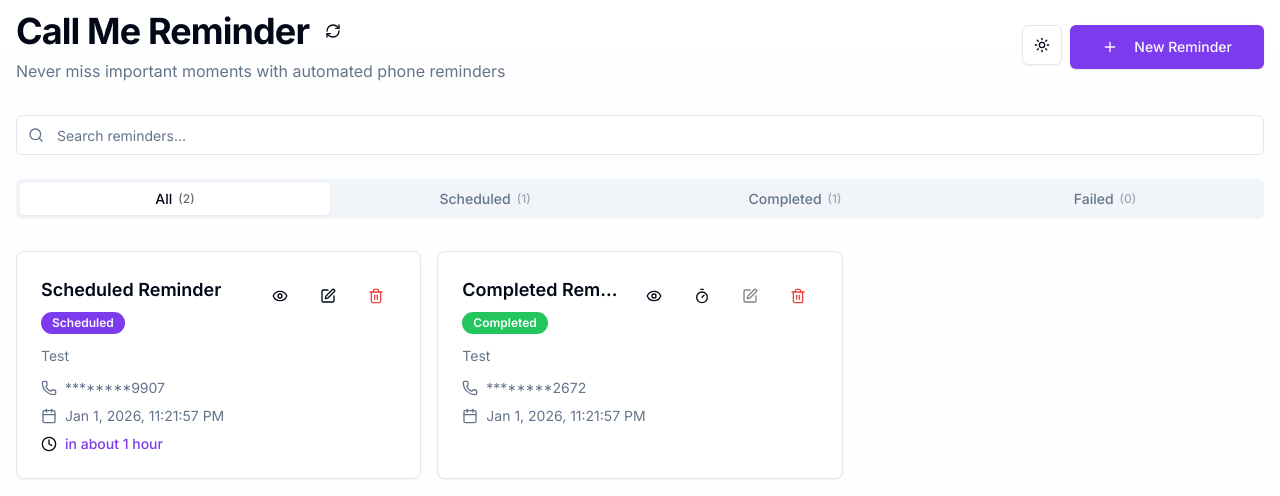
Call Me Reminder E2E Tests › should filter reminders by status
The width and height of the screenshot is (1280, 496).
Expected: the heading "Scheduled Reminder" is shown, [41,276,244,304]
Expected: the heading "Completed Reminder" is shown, [462,276,618,304]
Click the tab "Scheduled (1)": [485, 199] box [330,183,640,215]
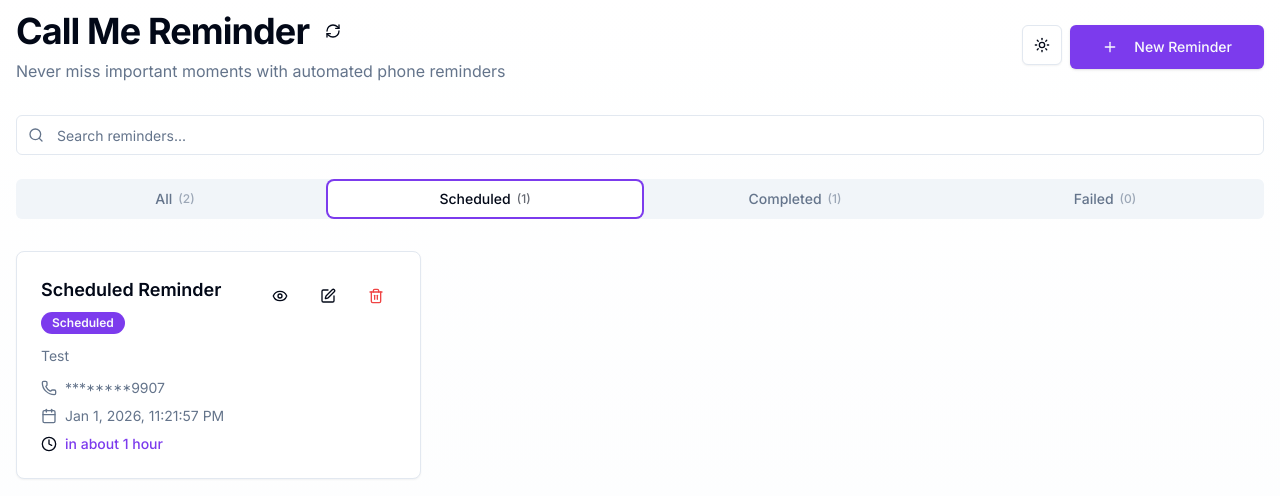
Expected: the heading "Scheduled Reminder" is shown, [41,276,244,304]
Expected: the heading "Completed Reminder" is gone
Click the tab "Completed (1)": [795, 199] box [640,183,950,215]
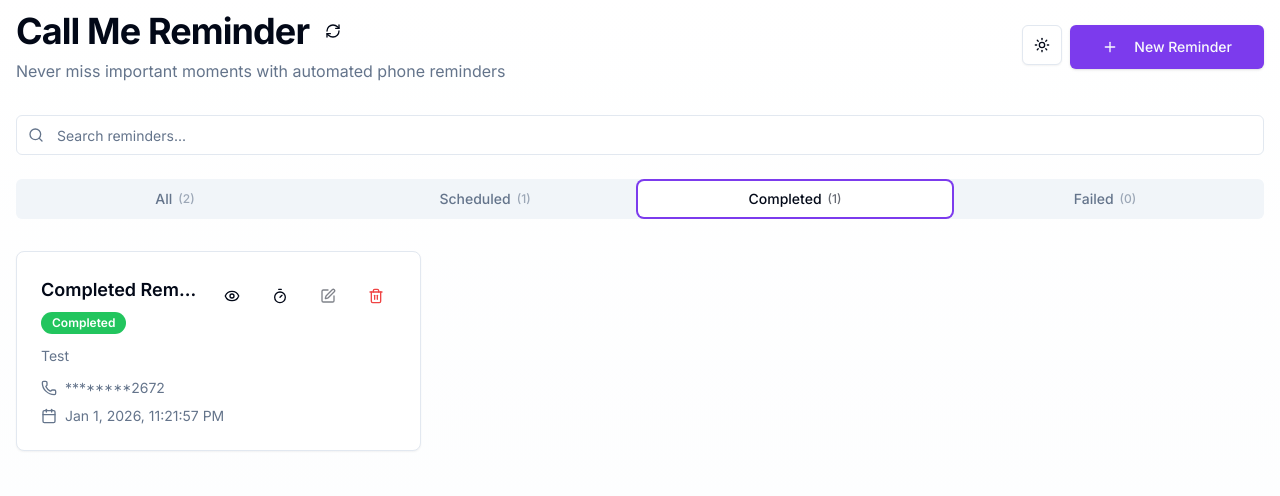
Expected: the heading "Completed Reminder" is shown, [41,276,196,304]
Expected: the heading "Scheduled Reminder" is gone
